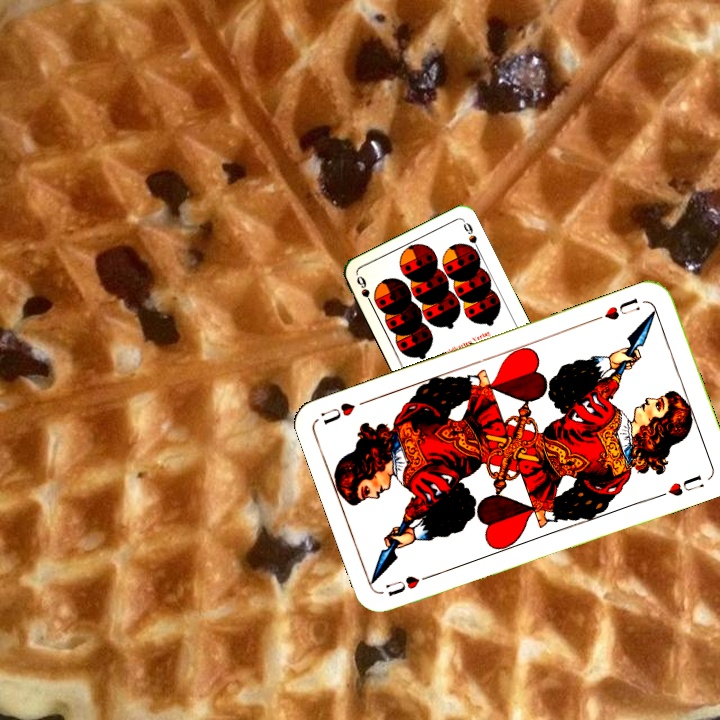HU: (381, 569, 437, 599), (590, 293, 643, 324)
S9: (352, 272, 376, 310)
